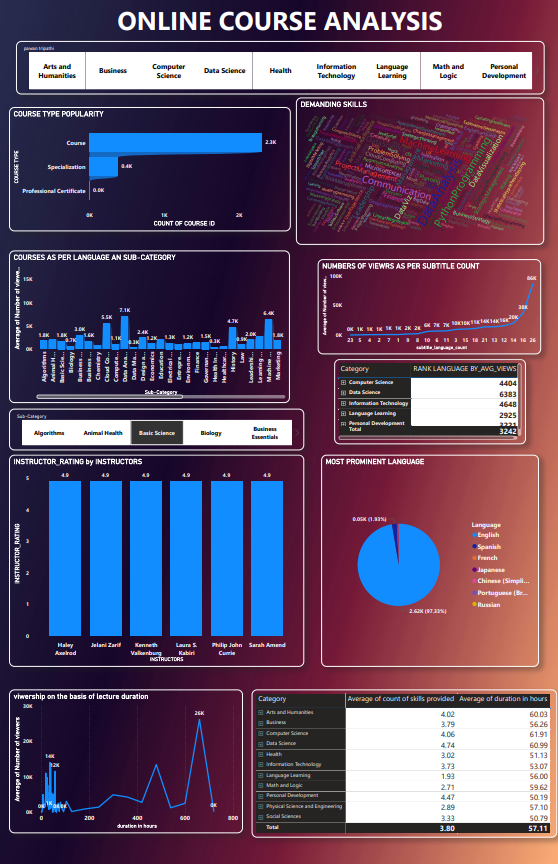

The dashboard page shown, as its layout file describes it:
{"tool":"powerbi","page":{"name":"Page 1","canvas":[1300,2000],"ordinal":0},"visuals":[{"type":"textbox","box":[134.2,0,1030.6,93.1],"z":0},{"type":"slicer","fields":{"Values":["Online_Courses.Category"]},"box":[41.7,93.3,1215,121.7],"z":1},{"type":"barChart","title":"COURSE TYPE POPULARITY","fields":{"Y":["Online_Courses.courseID"],"Category":["Online_Courses.Course Type"]},"box":[25,246.7,646.7,285],"z":2},{"type":"columnChart","title":"COURSES AS PER LANGUAGE AN SUB-CATEGORY","fields":{"Category":["Online_Courses.Sub-Category","Online_Courses.Language"],"Y":["Online_Courses.Number of viewers"]},"box":[26.7,575,645,350],"z":3},{"type":"WordCloud1447959067750","title":"DEMANDING SKILLS ","fields":{"Category":["Online_Courses.Skills"]},"box":[686.7,223.3,570,338.3],"z":4},{"type":"pieChart","title":"MOST PROMINENT LANGUAGE","fields":{"Category":["Online_Courses.Language"],"Y":["Online_Courses.courseID"]},"box":[743.3,1046.7,500,486.7],"z":5},{"type":"pivotTable","fields":{"Rows":["Online_Courses.Category","Online_Courses.Language"],"Values":["Online_Courses.RANK LANGUAGE BY_AVG_VIEWS"]},"box":[773.3,826.7,440,195],"z":6},{"type":"lineChart","title":"NUMBERS OF VIEWRS AS PER SUBTITLE COUNT","fields":{"Category":["Online_Courses.subtitle_language_count"],"Y":["Online_Courses.Number of viewers"]},"box":[736.7,595,513.3,218.3],"z":7},{"type":"columnChart","fields":{"Category":["TEACHERS.INSTRUCTORS"],"Y":["TEACHERS.INSTRUCTOR_RATING"]},"box":[25,1046.7,678.3,486.7],"z":8},{"type":"slicer","fields":{"Values":["TEACHERS.Sub-Category"]},"box":[25,940,678.3,95],"z":9},{"type":"lineChart","title":"viwership on the basis of lecture duration","fields":{"Category":["Online_Courses.duration in hours"],"Y":["Online_Courses.Number of viewers"]},"box":[26.7,1585,536.7,330],"z":10},{"type":"pivotTable","fields":{"Rows":["Online_Courses.Category","Online_Courses.Sub-Category"],"Values":["Online_Courses.count of skills provided","Online_Courses.duration in hours"]},"box":[583.3,1585,701.7,340],"z":11}]}

Visuals, with their boxes in screenshot pixels (x1, y1, x2, y2), scaled from the page's 1300x2000 canvas onto the 558x864 screenshot:
textbox: region(58, 0, 500, 40)
slicer - Online_Courses.Category: region(18, 40, 539, 93)
"COURSE TYPE POPULARITY" barChart: region(11, 107, 288, 230)
"COURSES AS PER LANGUAGE AN SUB-CATEGORY" columnChart: region(11, 248, 288, 400)
"DEMANDING SKILLS " WordCloud1447959067750: region(295, 96, 539, 243)
"MOST PROMINENT LANGUAGE" pieChart: region(319, 452, 534, 662)
pivotTable - Online_Courses.Category x Online_Courses.Language: region(332, 357, 521, 441)
"NUMBERS OF VIEWRS AS PER SUBTITLE COUNT" lineChart: region(316, 257, 537, 351)
columnChart - TEACHERS.INSTRUCTORS x TEACHERS.INSTRUCTOR_RATING: region(11, 452, 302, 662)
slicer - TEACHERS.Sub-Category: region(11, 406, 302, 447)
"viwership on the basis of lecture duration" lineChart: region(11, 685, 242, 827)
pivotTable - Online_Courses.Category x Online_Courses.Sub-Category: region(250, 685, 552, 832)
